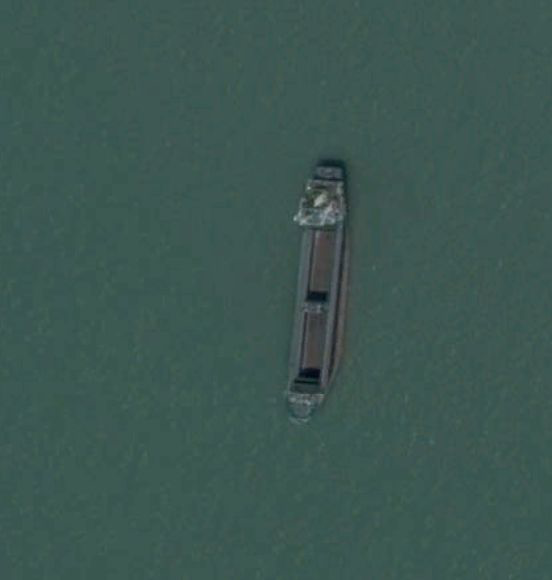boat: (280, 159, 353, 427)
